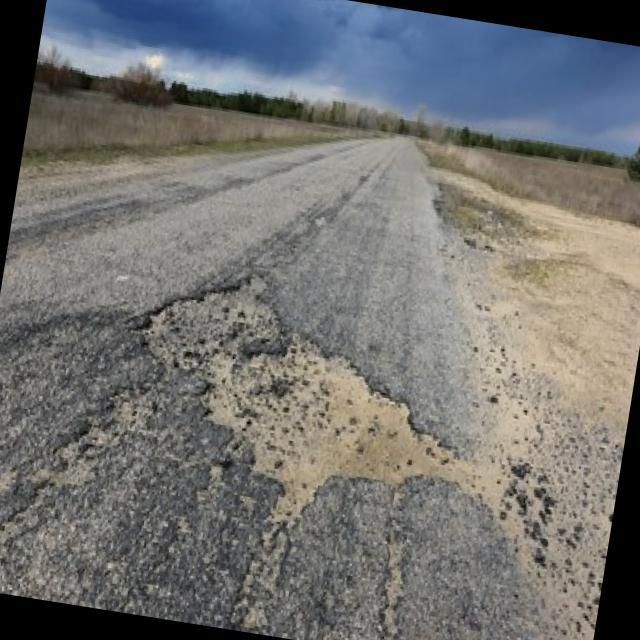Pothole: (118, 256, 482, 548)
